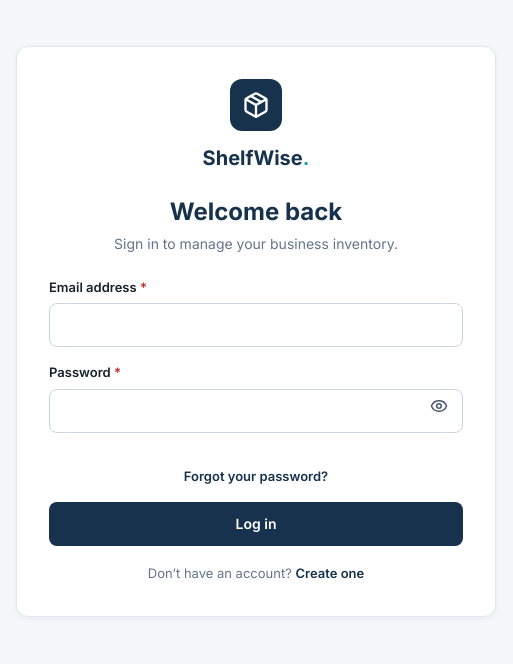
Test case: LoginPage › shows an error when Supabase rejects the credentials
Type "owner@example.com" into the field labelled "Email address *". click: {"x": 256, "y": 325}
box: [49,303,463,347]
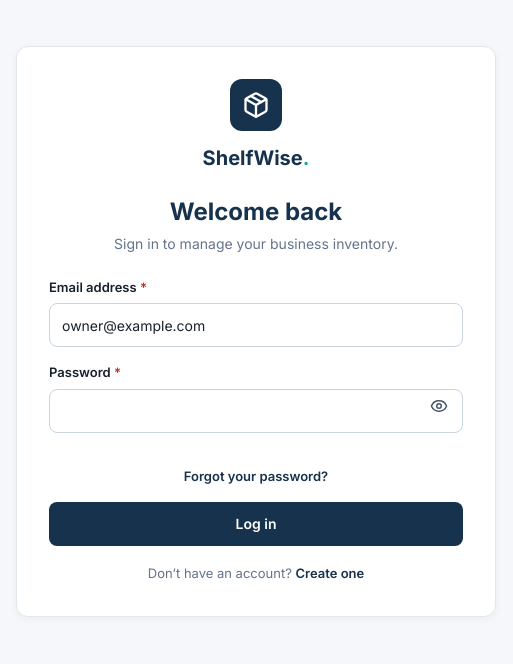
Type "incorrect" into the password field labelled "Password *". click: {"x": 256, "y": 410}
box: [49,388,463,432]
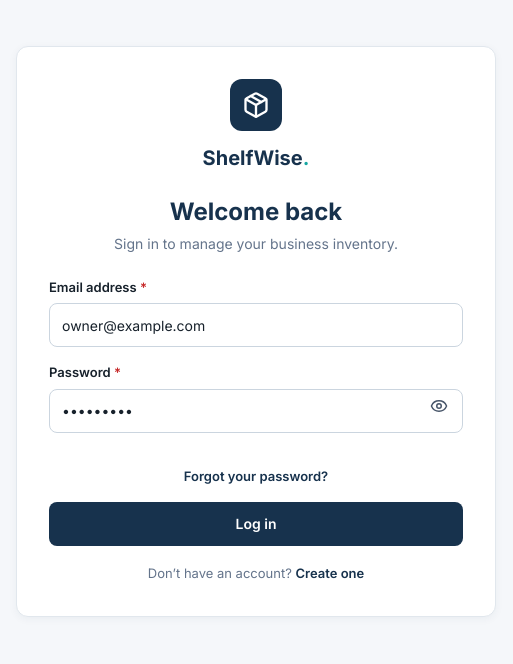
Click the button "Log in". click: {"x": 256, "y": 524}
box: [49,502,463,546]
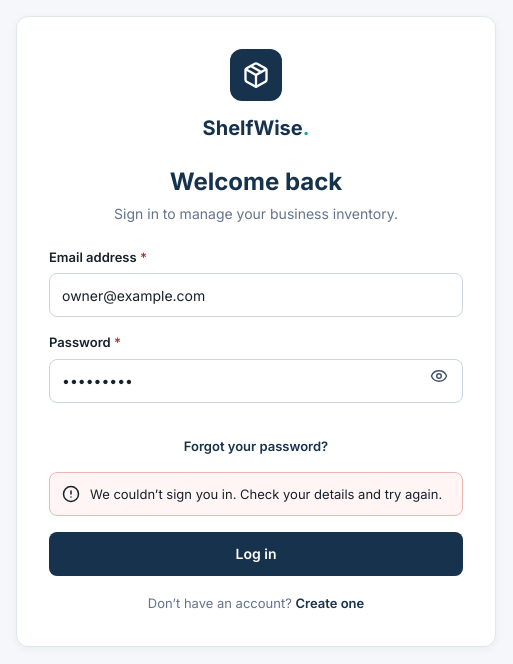
Expected: the message reads "We couldn’t sign you in. Check your details and try again.", [90,486,442,502]
Expected: the 3rd icon is shown, [62,485,80,503]
